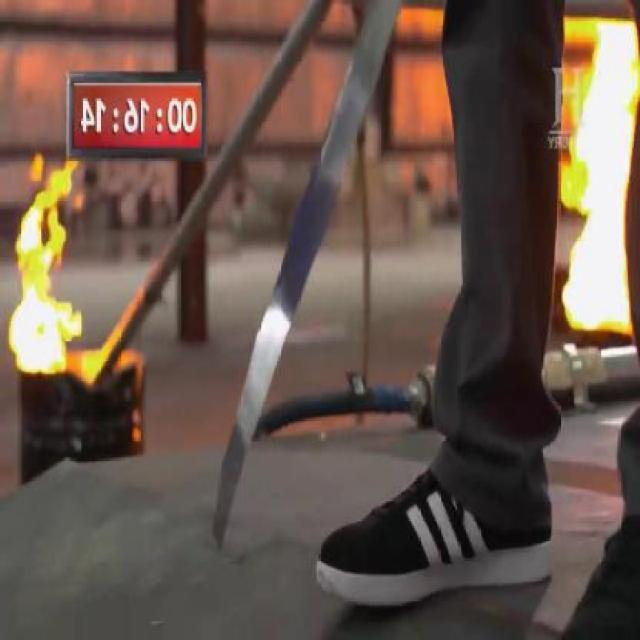Fire: (559, 20, 640, 335), (3, 158, 87, 372)
